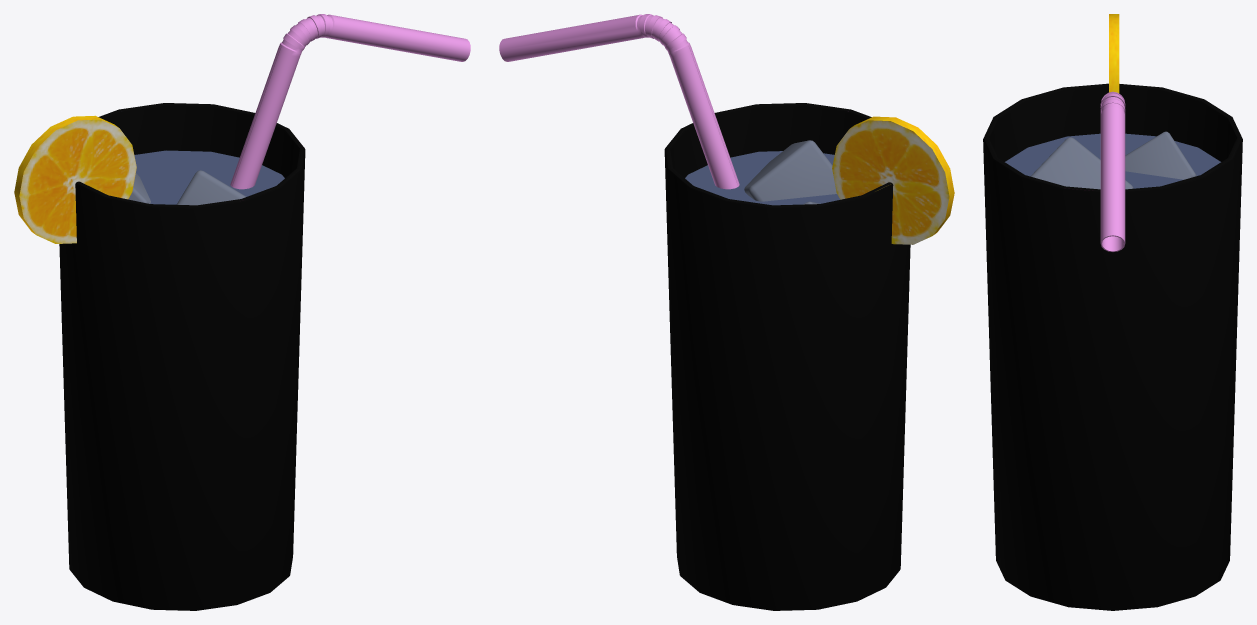
File: Drink.fbx
3 views of the same model, side by side, from view 1: azimuth 30°, elevation 25°; view 2: azimuth 150°, elevation 25°; view 3: azimuth 270°, elevation 25° (orthographic). The views are drawn at different scales.
Visible parts, largest first — view 1: Cylinder.001; view 2: Cylinder.001; view 3: Cylinder.001.
Boxes of the visible parts, left/top/right/bottom form: Cylinder.001: left=14, top=14, right=470, bottom=610; Cylinder.001: left=499, top=14, right=954, bottom=610; Cylinder.001: left=983, top=14, right=1242, bottom=610.
Bounding box in the file's own units: 15.33 × 16.77 × 7.39.
